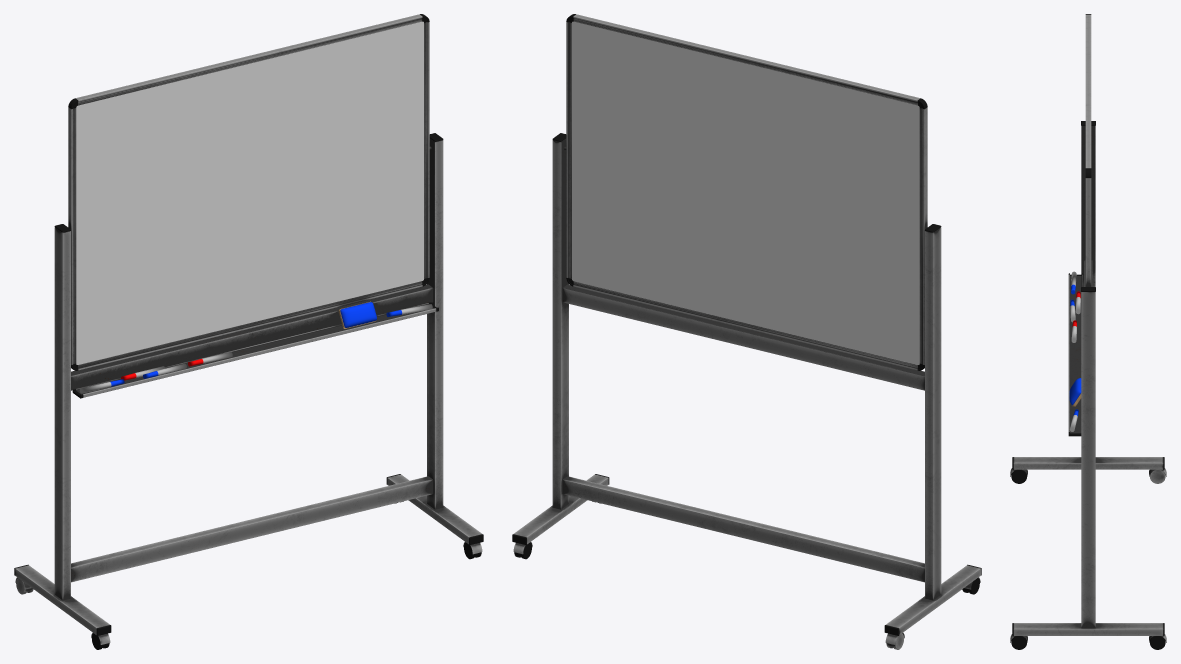
File: WhiteBoard.fbx
3 views of the same model, side by side, from view 1: azimuth 30°, elevation 25°; view 2: azimuth 150°, elevation 25°; view 3: azimuth 270°, elevation 25° (orthographic). The views are drawn at different scales.
Parts seen in each view (by area): view 1: WhiteBoard; view 2: WhiteBoard; view 3: WhiteBoard.
Part boxes in pixels (left/top/right/bottom): WhiteBoard: left=14, top=14, right=483, bottom=649; WhiteBoard: left=512, top=14, right=981, bottom=649; WhiteBoard: left=1010, top=14, right=1166, bottom=649.
Bounding box in the file's own units: 139 × 178 × 53.31.
